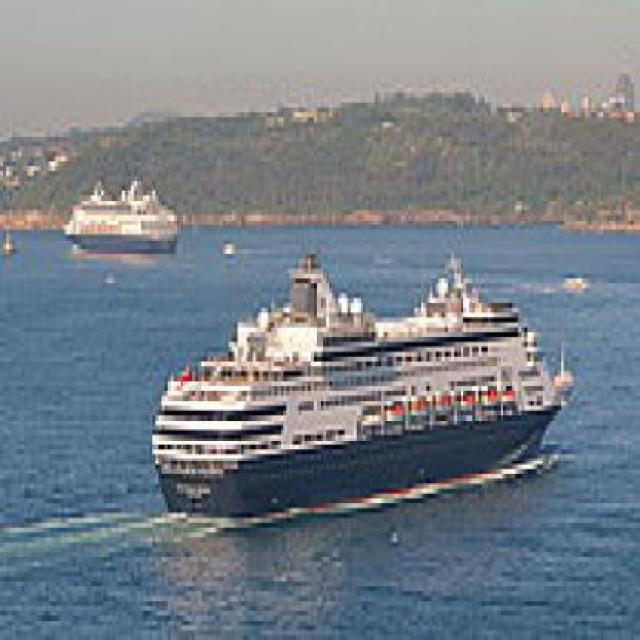cruise: (147, 245, 578, 534), (62, 172, 183, 270)
